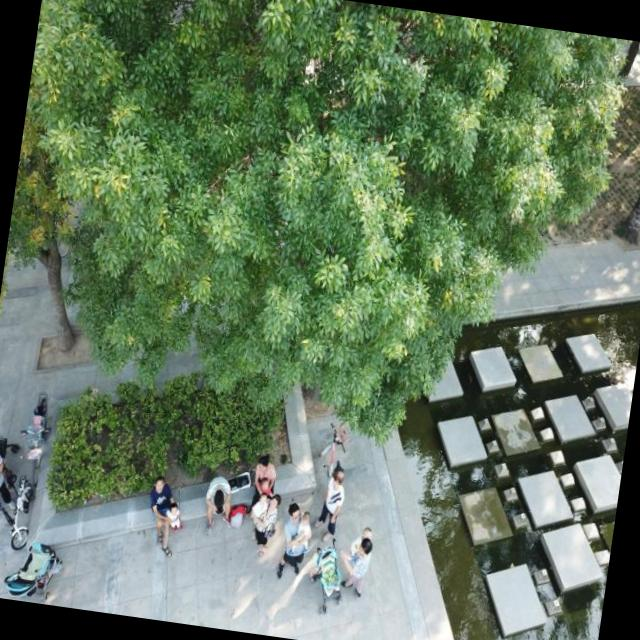person: (144, 477, 181, 558), (312, 468, 348, 542), (276, 502, 308, 582), (249, 491, 284, 557), (202, 474, 237, 539), (248, 452, 282, 518), (341, 536, 375, 596), (0, 446, 22, 524)
